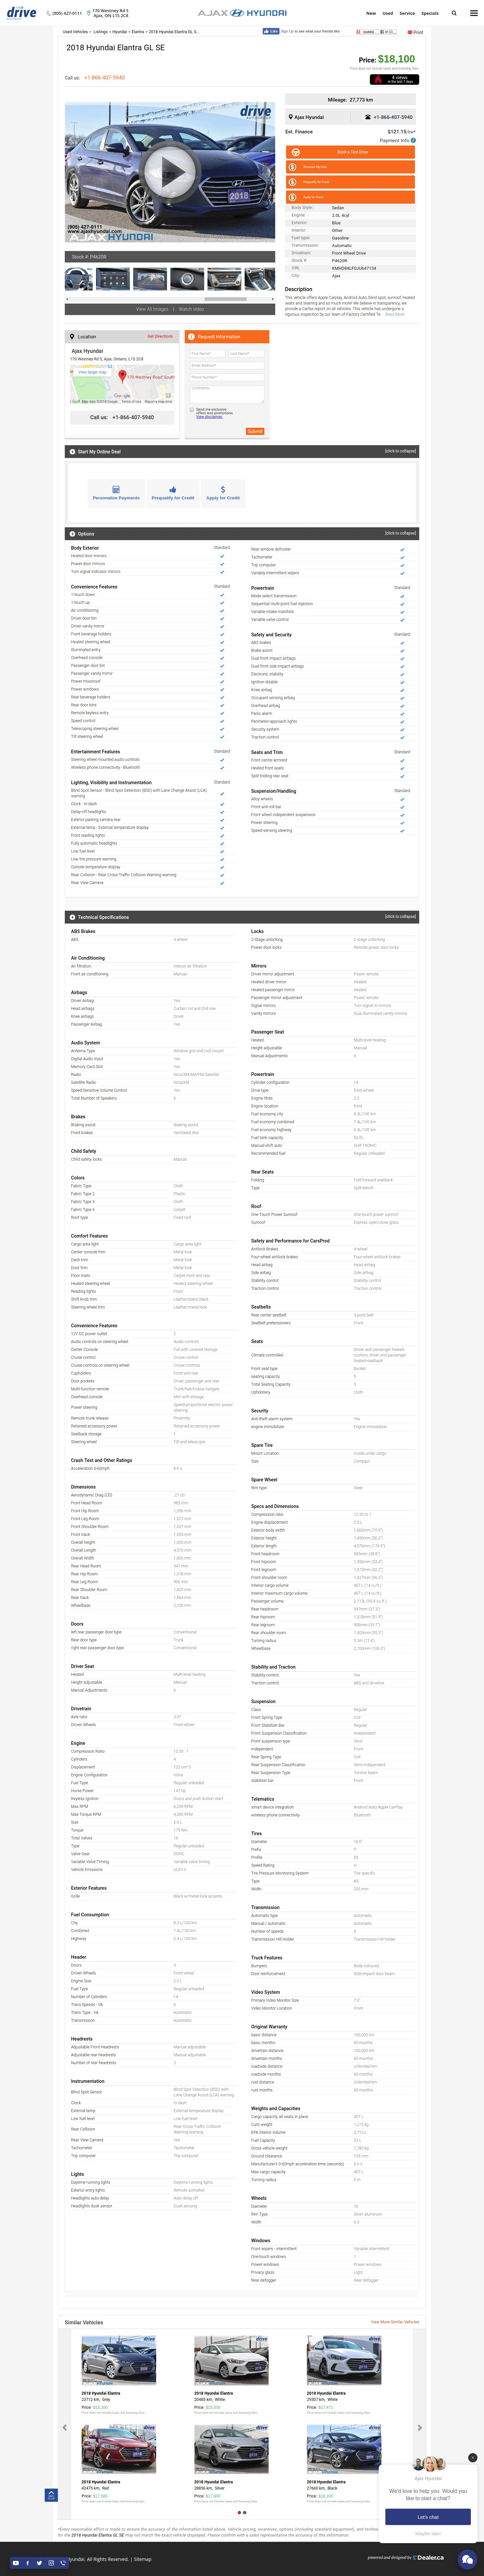car: (272, 297, 275, 301)
